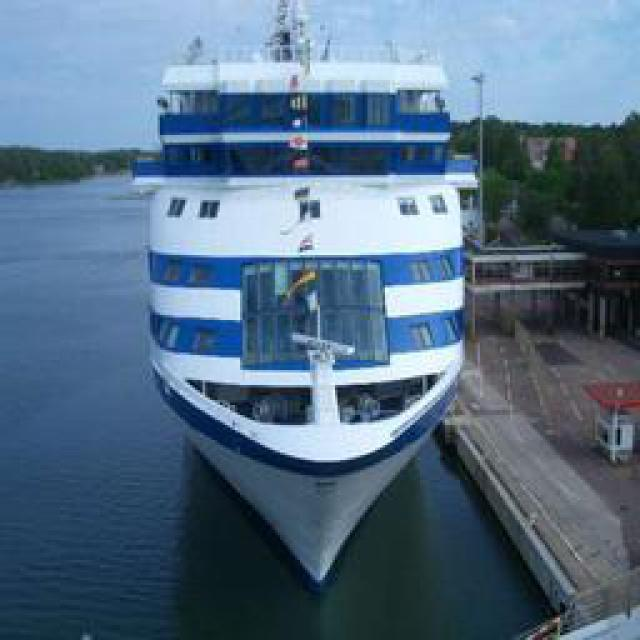Ship: (145, 81, 473, 584)
